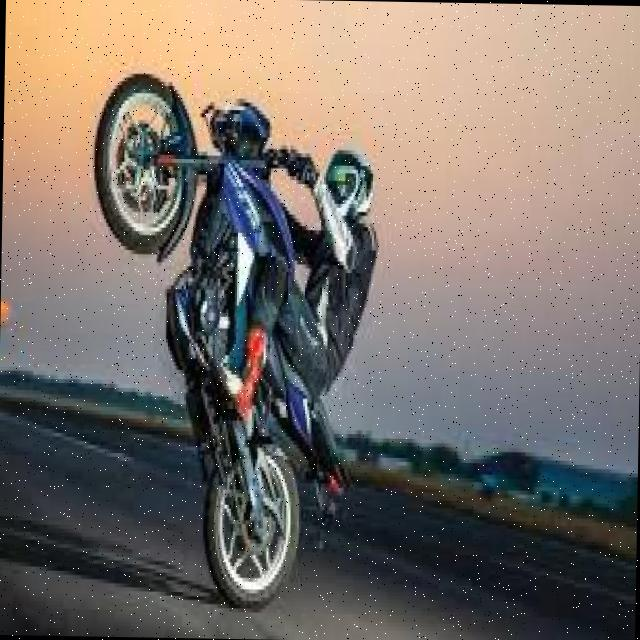Wheeling: (84, 73, 391, 610)
